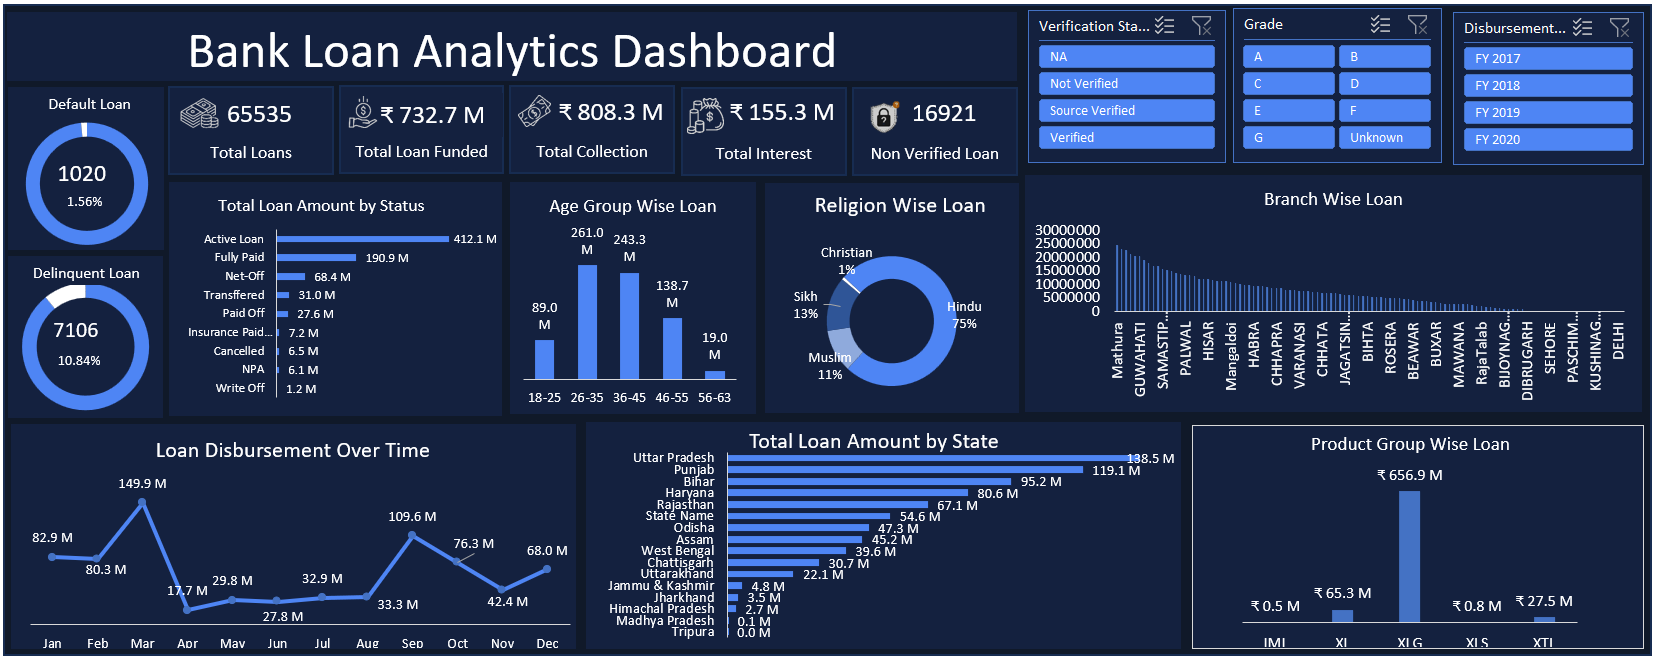

Layout of this report page (visuals, bound fields, positions):
{"tool":"tableau","page":{"name":"Dashboard 1","canvas":[1000,1000],"units":"permille","ordinal":0},"visuals":[{"type":"text","box":[4.9,10,990.1,84.9]},{"type":"worksheet","title":"Total funded amount","mark":"Automatic","box":[4.9,94.9,123.8,183.5]},{"type":"worksheet","title":"Total Loans","mark":"Automatic","box":[128.7,94.9,123.8,183.5]},{"type":"worksheet","title":"Total Collection","mark":"Automatic","box":[252.5,94.9,123.8,183.5]},{"type":"worksheet","title":"Total Interest","mark":"Automatic","box":[376.2,94.9,123.8,183.5]},{"type":"worksheet","title":"Non verified loans","mark":"Automatic","box":[500,94.9,123.8,183.5]},{"type":"worksheet","title":"Average Loan Maturity (Months)","mark":"Automatic","box":[623.7,94.9,123.8,183.5]},{"type":"worksheet","title":"Default Loan","mark":"Pie","rows":["Calculation_1842253757352505349","Calculation_1842253757352534023"],"box":[747.5,94.9,123.8,183.5]},{"type":"worksheet","title":"Delinquent Loan","mark":"Pie","rows":["Calculation_1842253757352505349","Calculation_1842253757352534023"],"box":[871.3,94.9,123.8,183.5]},{"type":"worksheet","title":"Loan Status-Wise Loan","mark":"Automatic","rows":["Loan_Status"],"cols":["Loan_Amount"],"box":[4.9,278.4,247.2,358.1]},{"type":"worksheet","title":"Product-Group wise Loan","mark":"Automatic","rows":["Loan_Amount"],"cols":["Product _Code"],"box":[252.1,278.4,261.7,358.1]},{"type":"worksheet","title":"Religion Wise Loan","mark":"Pie","rows":["Calculation_1842253757372846093","Calculation_1842253757372870671"],"box":[513.8,278.4,254.2,358.1]},{"type":"filter","title":"Age Group-Wise Loan","param":"[federated.1sf12a31s66beb1ev07wz14o3s9r].[none:BranchName:nk]","box":[768,278.4,227.1,83.6]},{"type":"filter","title":"Age Group-Wise Loan","param":"[federated.1sf12a31s66beb1ev07wz14o3s9r].[none:Disbursement_Years:nk]","box":[768,362,227.1,167.3]},{"type":"worksheet","title":"State wise Loan","mark":"Automatic","box":[768,529.3,227.1,460.7]},{"type":"worksheet","title":"Grade Wise Loan","mark":"Automatic","rows":["Grade"],"cols":["Loan_Amount"],"box":[4.9,636.5,178.8,353.5]},{"type":"worksheet","title":"Disbursement Trend over Months","mark":"Automatic","rows":["Loan_Amount"],"cols":["Disbursement_Date"],"box":[183.7,636.5,340,353.5]},{"type":"worksheet","title":"Age Group-Wise Loan","mark":"Automatic","rows":["Loan_Amount"],"cols":["Age"],"box":[523.7,636.5,244.3,353.5]}]}

Visuals, with their boxes on the dashboard's canvas, which has no fixed pixel size, in thousandths of its width and height (x1, y1, x2, y2). These are canvas units, not pixel positions in the 1656x662 screenshot, which may show the page scaled, cropped or inside an application window:
text: left=5, top=10, right=995, bottom=95
"Total funded amount" worksheet: left=5, top=95, right=129, bottom=278
"Total Loans" worksheet: left=129, top=95, right=252, bottom=278
"Total Collection" worksheet: left=252, top=95, right=376, bottom=278
"Total Interest" worksheet: left=376, top=95, right=500, bottom=278
"Non verified loans" worksheet: left=500, top=95, right=624, bottom=278
"Average Loan Maturity (Months)" worksheet: left=624, top=95, right=748, bottom=278
"Default Loan" worksheet (Pie marks): left=748, top=95, right=871, bottom=278
"Delinquent Loan" worksheet (Pie marks): left=871, top=95, right=995, bottom=278
"Loan Status-Wise Loan" worksheet: left=5, top=278, right=252, bottom=636
"Product-Group wise Loan" worksheet: left=252, top=278, right=514, bottom=636
"Religion Wise Loan" worksheet (Pie marks): left=514, top=278, right=768, bottom=636
"Age Group-Wise Loan" filter: left=768, top=278, right=995, bottom=362
"Age Group-Wise Loan" filter: left=768, top=362, right=995, bottom=529
"State wise Loan" worksheet: left=768, top=529, right=995, bottom=990
"Grade Wise Loan" worksheet: left=5, top=636, right=184, bottom=990
"Disbursement Trend over Months" worksheet: left=184, top=636, right=524, bottom=990
"Age Group-Wise Loan" worksheet: left=524, top=636, right=768, bottom=990
